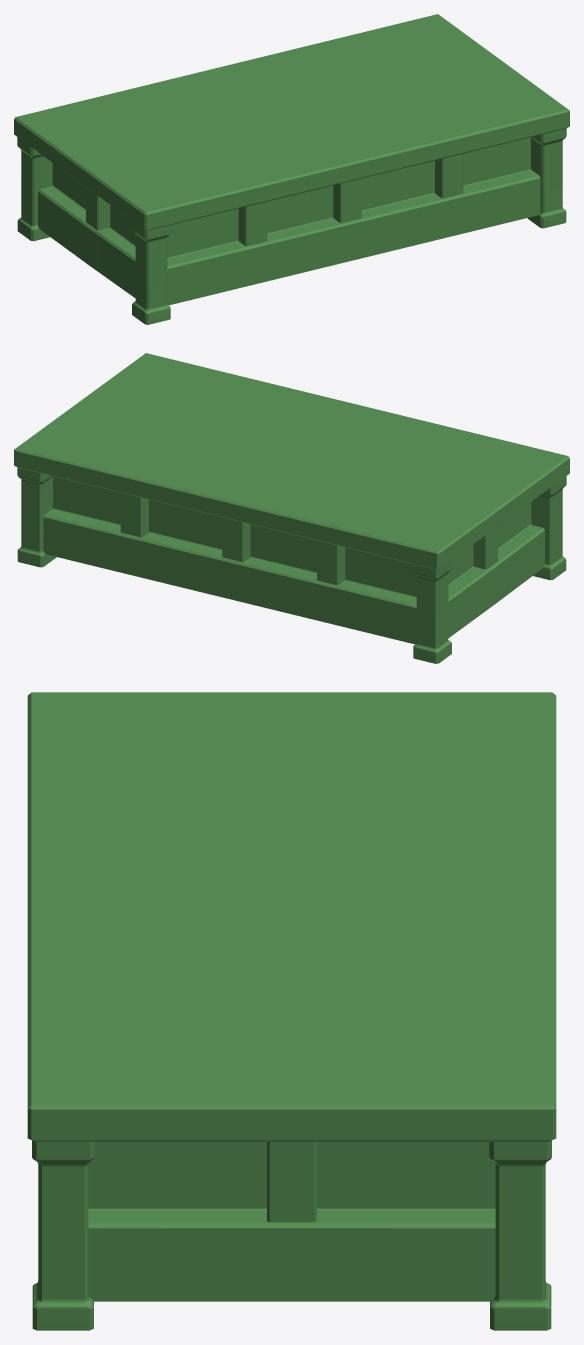
The model's file is Table.fbx.
3 renders of one model, top to bottom at view 1: azimuth 30°, elevation 25°; view 2: azimuth 150°, elevation 25°; view 3: azimuth 270°, elevation 25°, orthographic. The views are drawn at different scales.
Visible parts, largest first — view 1: Table; view 2: Table; view 3: Table.
Part boxes in pixels (x1=…): Table: x1=14, y1=14, x2=569, y2=324; Table: x1=14, y1=353, x2=569, y2=663; Table: x1=27, y1=692, x2=556, y2=1330.
Bounding box in the file's own units: 1.99 × 0.5054 × 1.07.
